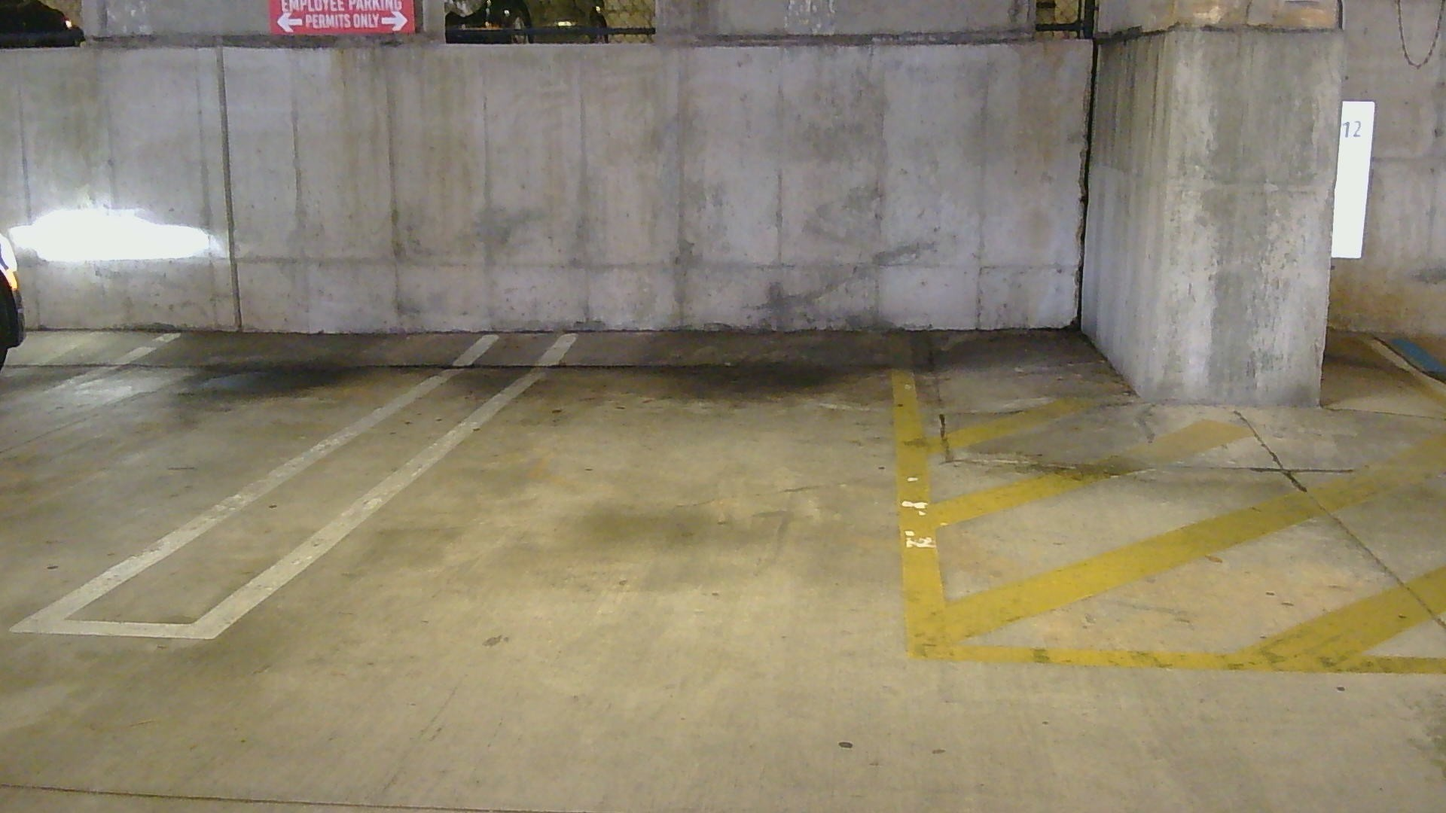empty_spot: (139, 207, 1023, 655), (0, 236, 504, 625)
